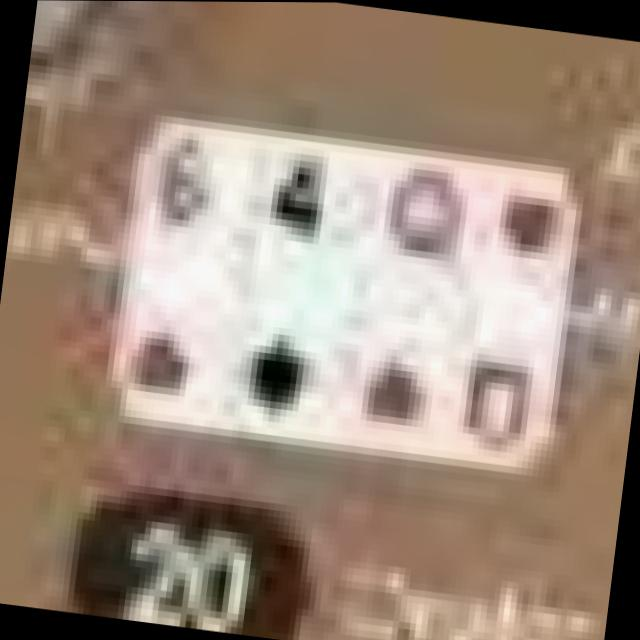Card-4: (234, 138, 388, 450)
Card-6: (117, 131, 272, 433)
Card-Q: (352, 155, 571, 470)
